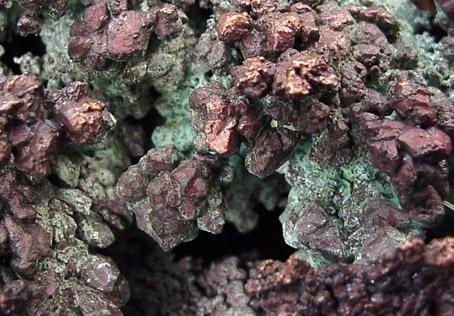copper: (0, 2, 454, 316), (71, 1, 188, 59)
